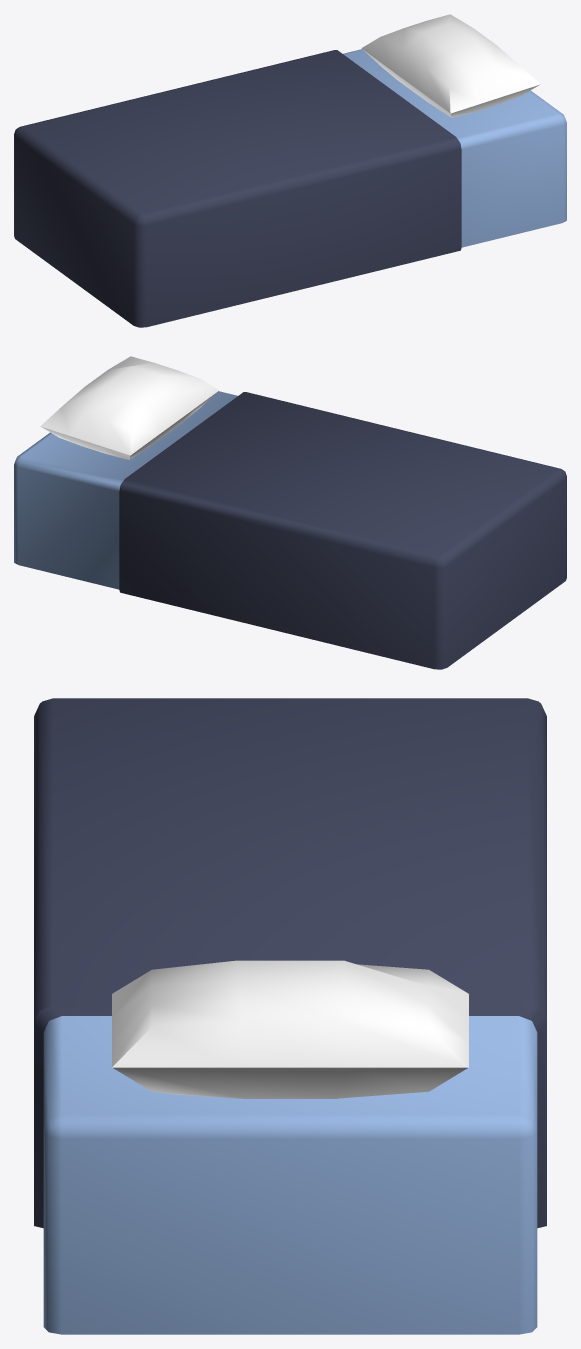
The model's file is Bed.fbx.
3 views of the same model, one above another, from view 1: azimuth 30°, elevation 25°; view 2: azimuth 150°, elevation 25°; view 3: azimuth 270°, elevation 25° (orthographic). The views are drawn at different scales.
Visible parts, largest first — view 1: Bed; view 2: Bed; view 3: Bed.
Part boxes in pixels (x1=…): Bed: x1=14, y1=14, x2=566, y2=327; Bed: x1=14, y1=356, x2=566, y2=669; Bed: x1=34, y1=698, x2=546, y2=1334.
Size of the model in its own units: 581 by 196 by 297.
